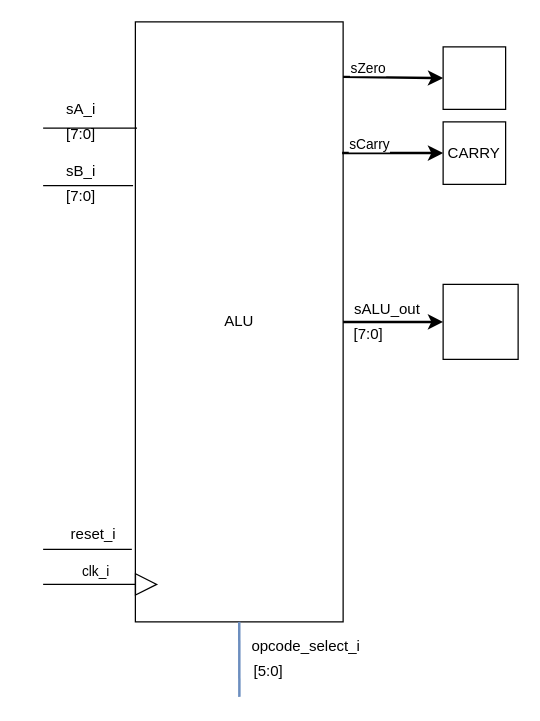
Some shapes in this 540 by 721 pixel diagram are drawn without their labels. Each missing label, with the centre of its shape:
ALU_out: the point at 480,321
ZERO: the point at 474,77
